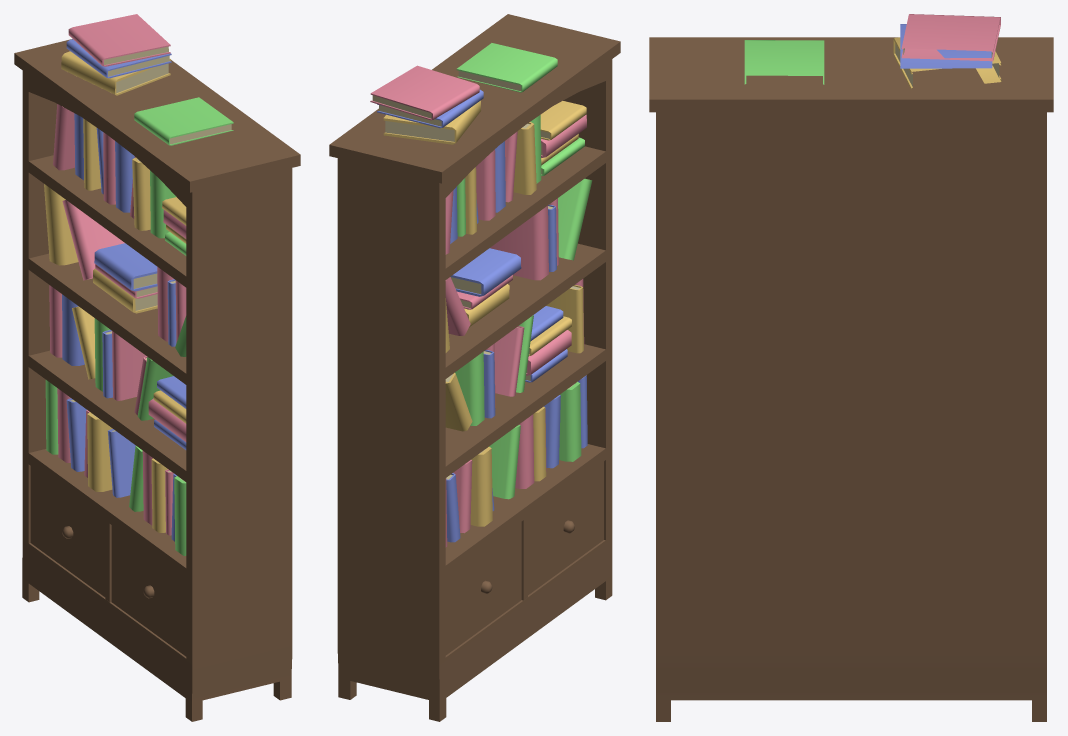
The model's file is Bookcase.fbx.
3 renders of one model, left to right at view 1: azimuth 30°, elevation 25°; view 2: azimuth 150°, elevation 25°; view 3: azimuth 270°, elevation 25°, orthographic. The views are drawn at different scales.
Parts seen in each view (by area): view 1: StandingBookcaseV1; view 2: StandingBookcaseV1; view 3: StandingBookcaseV1.
Part boxes in pixels (left/top/right/bottom): StandingBookcaseV1: left=14, top=14, right=300, bottom=721; StandingBookcaseV1: left=329, top=14, right=620, bottom=721; StandingBookcaseV1: left=649, top=14, right=1053, bottom=721.
Bounding box in the file's own units: 322 × 1605 × 884.
